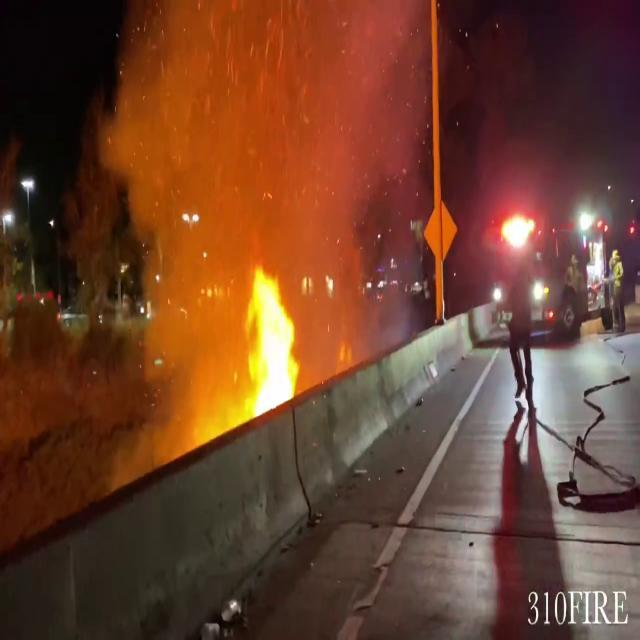Fire: (236, 258, 305, 418)
Smoke: (105, 0, 405, 301)
